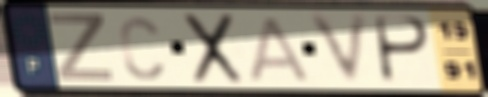A: (247, 14, 314, 84)
C: (116, 14, 166, 82)
P: (374, 13, 434, 86)
V: (304, 10, 374, 89)
X: (182, 11, 247, 86)
Z: (46, 11, 118, 84)
